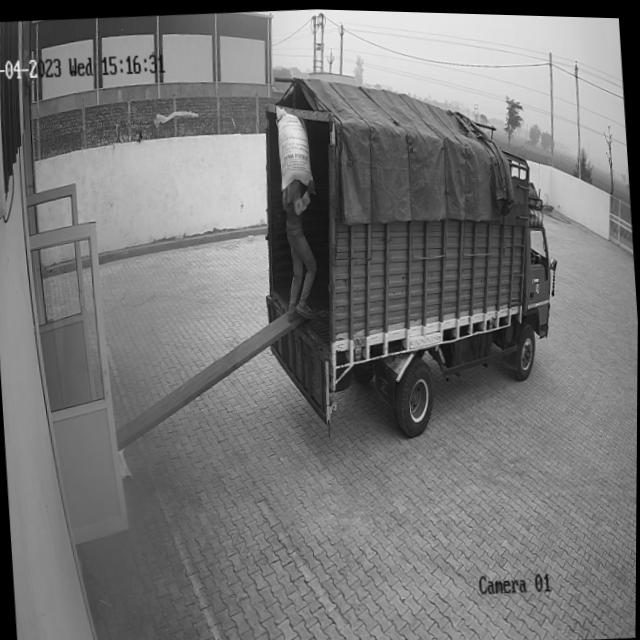sack: (274, 100, 314, 191)
